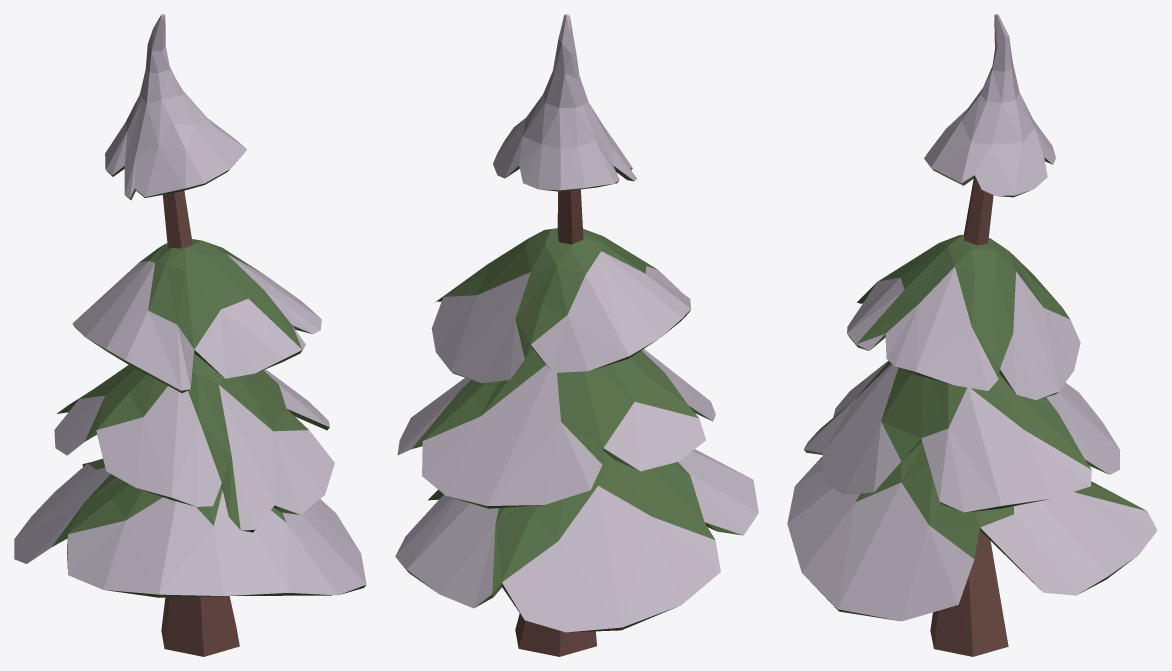
Rendered from PineTree_Snow_2.lod1.glb.
3 views of the same model, side by side, from view 1: azimuth 30°, elevation 25°; view 2: azimuth 150°, elevation 25°; view 3: azimuth 270°, elevation 25° (orthographic). The views are drawn at different scales.
Visible parts, largest first — view 1: PineTree_Snow_2; view 2: PineTree_Snow_2; view 3: PineTree_Snow_2.
Boxes of the visible parts, <box> form: PineTree_Snow_2: <box>14,14,366,656</box>; PineTree_Snow_2: <box>395,14,758,656</box>; PineTree_Snow_2: <box>787,14,1157,656</box>.
Bounding box in the file's own units: 1.79 × 3.56 × 1.95.
